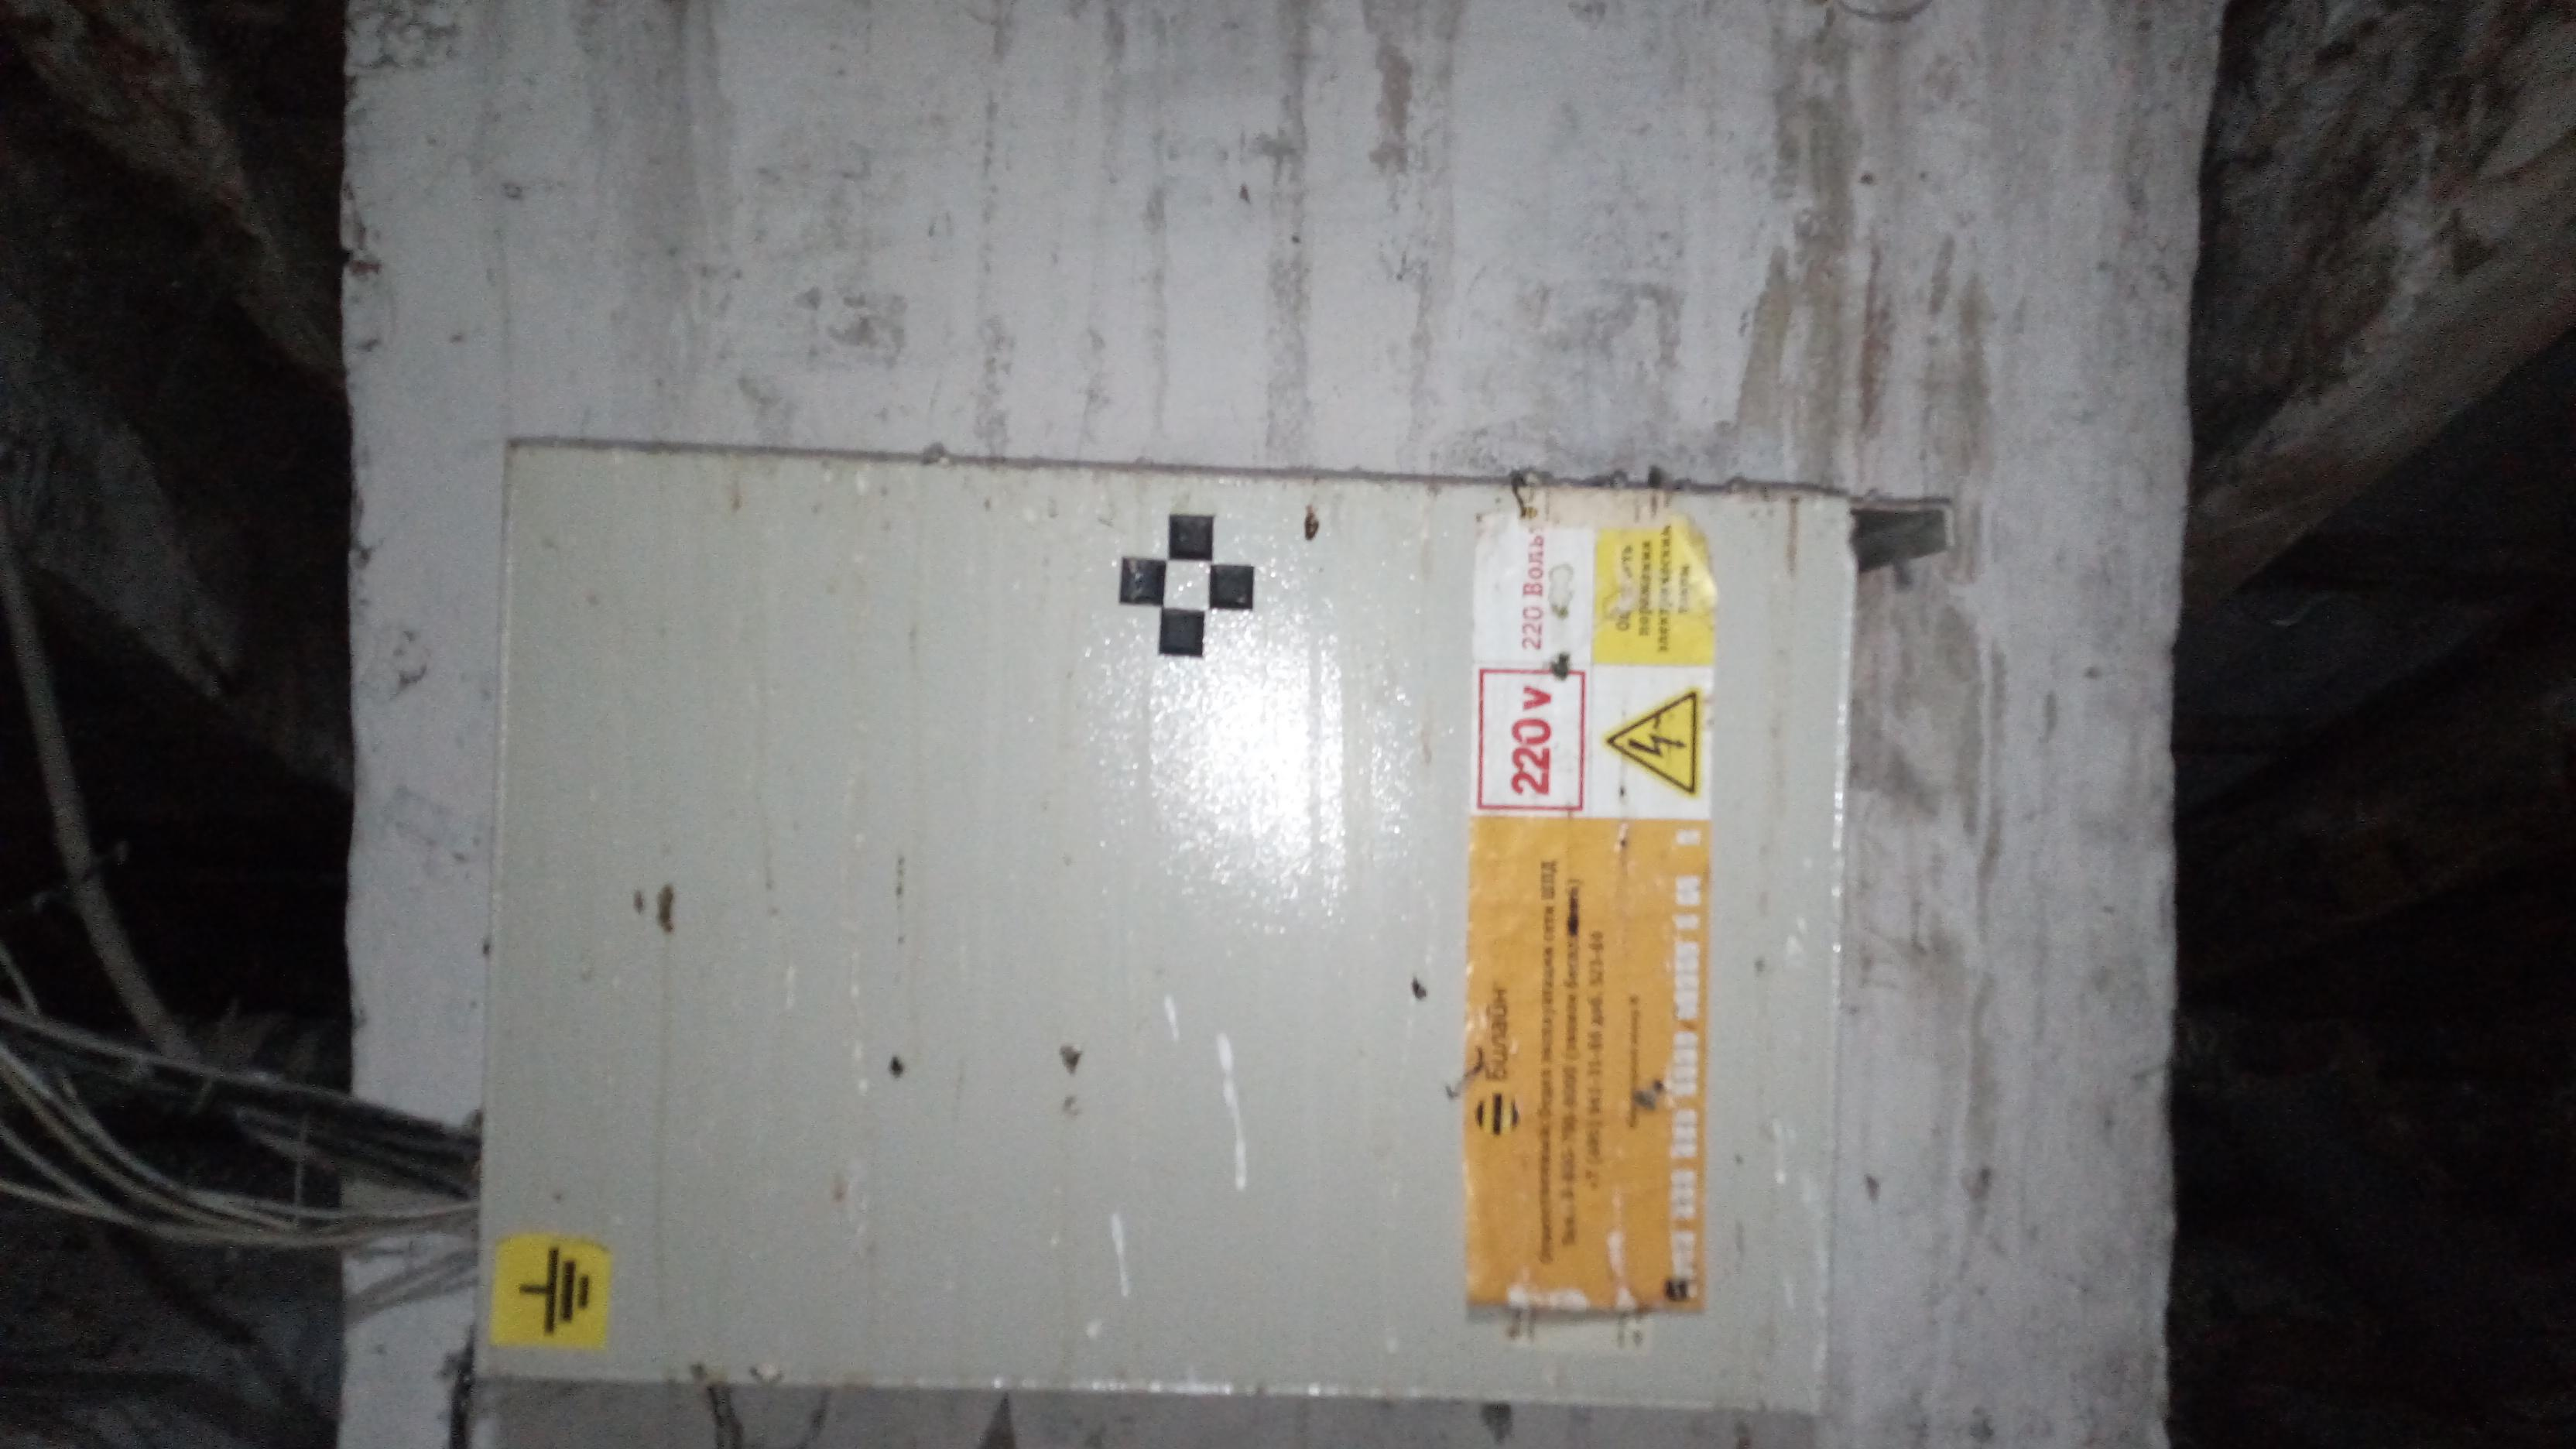sv-5: (469, 416, 1870, 1428)
